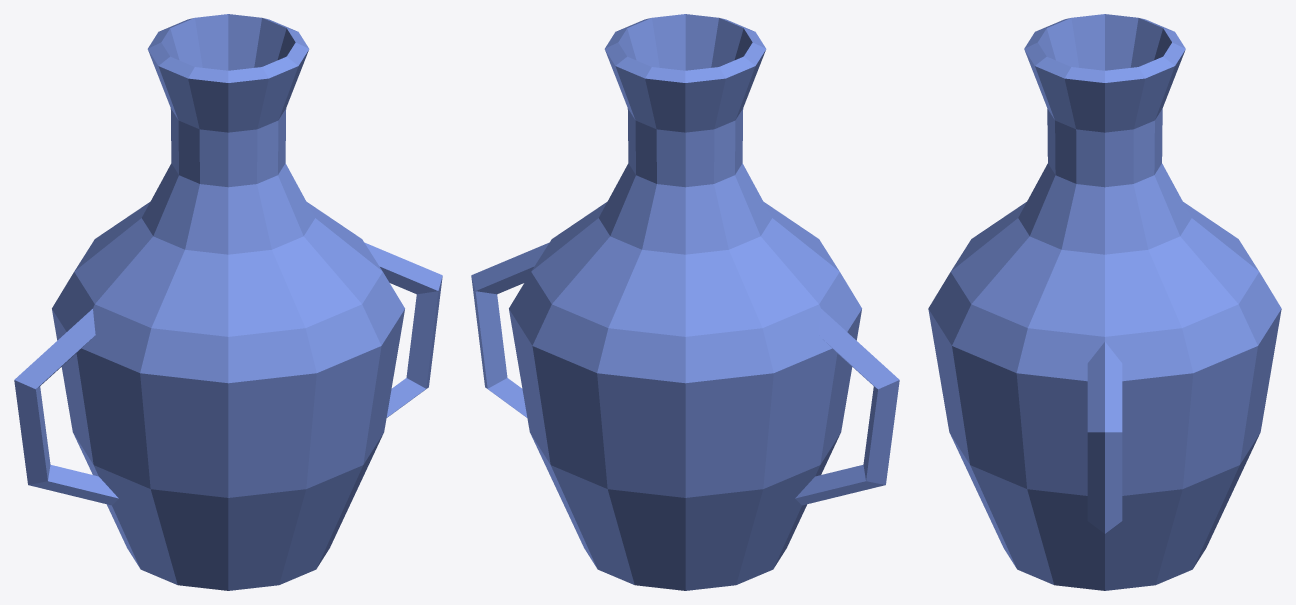
File: waza_1.fbx
3 views of the same model, side by side, from view 1: azimuth 30°, elevation 25°; view 2: azimuth 150°, elevation 25°; view 3: azimuth 270°, elevation 25° (orthographic).
Visible parts, largest first — view 1: Cylinder; view 2: Cylinder; view 3: Cylinder.
Boxes of the visible parts, x1,y1,x2,y2 form: Cylinder: (14,14,442,590); Cylinder: (471,14,899,590); Cylinder: (928,14,1281,590).
Size of the model in its own units: 488 by 551 by 349.
